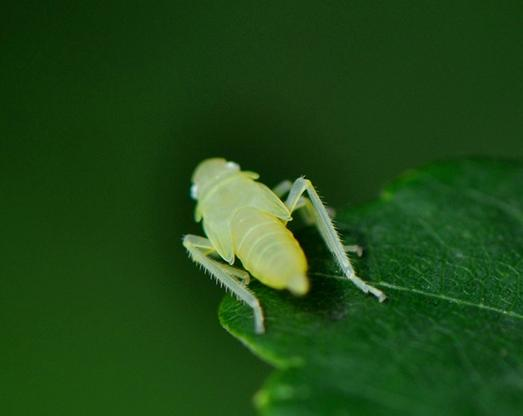Cicadellidae: (181, 154, 387, 333)
